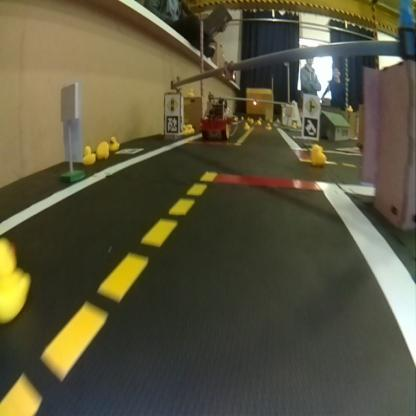Duckie: (2, 238, 30, 322), (310, 144, 324, 165), (83, 144, 94, 165), (97, 143, 108, 159), (110, 137, 119, 150)
Duckiebot: (199, 98, 231, 139)
Intersection sign: (304, 97, 315, 115)
QR code: (304, 118, 316, 137), (166, 115, 177, 132)
Signal sign: (166, 95, 178, 113)
